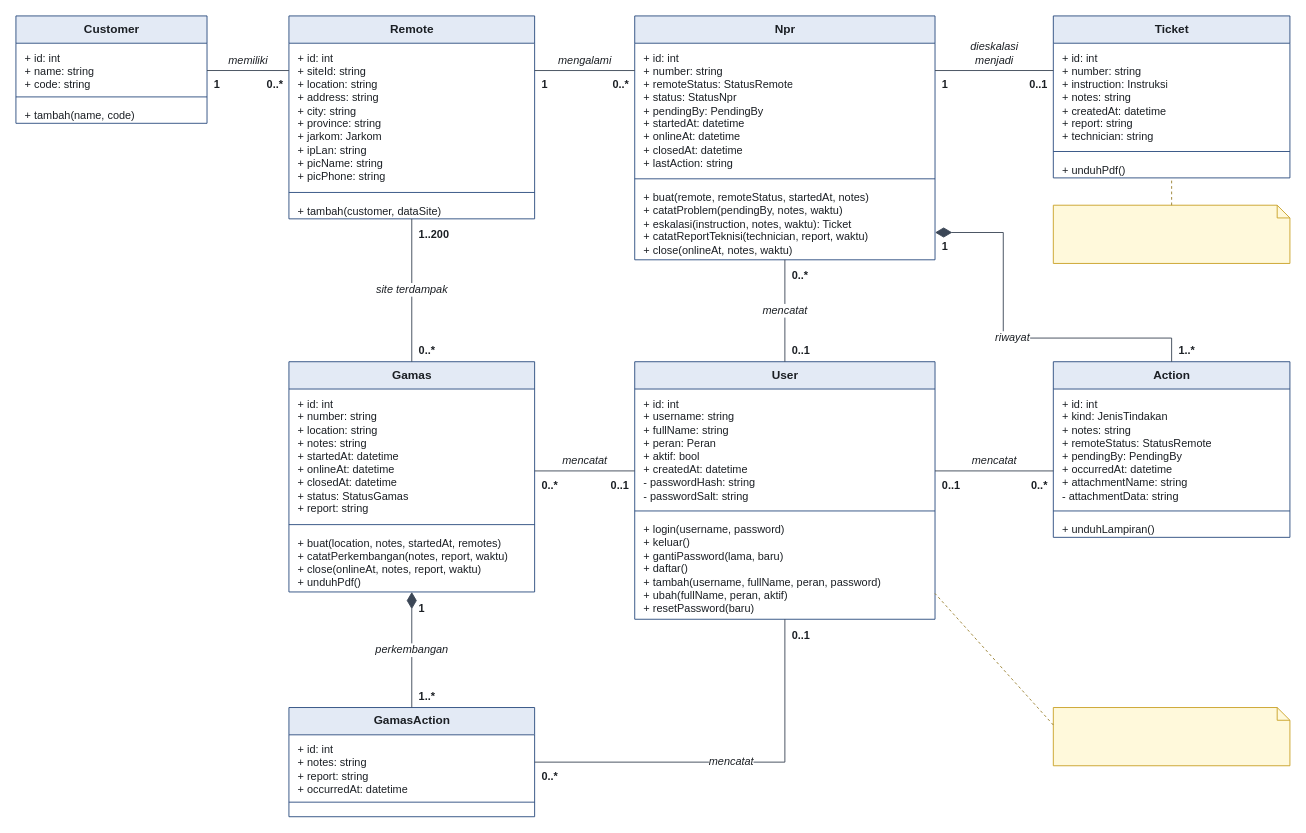
This 1306x833 diagram has some shape labels left out. Here are the shapes that lost their labels. From the top down, the centre of each, then its label:
At point (1171, 233): "Ticket dibuat oleh Npr.eskalasi(); report diisi lewat catatReportTeknisi().".
At point (1171, 736): "Operasi daftar(), tambah(), ubah(), dan resetPassword() hanya untuk peran admin.".
